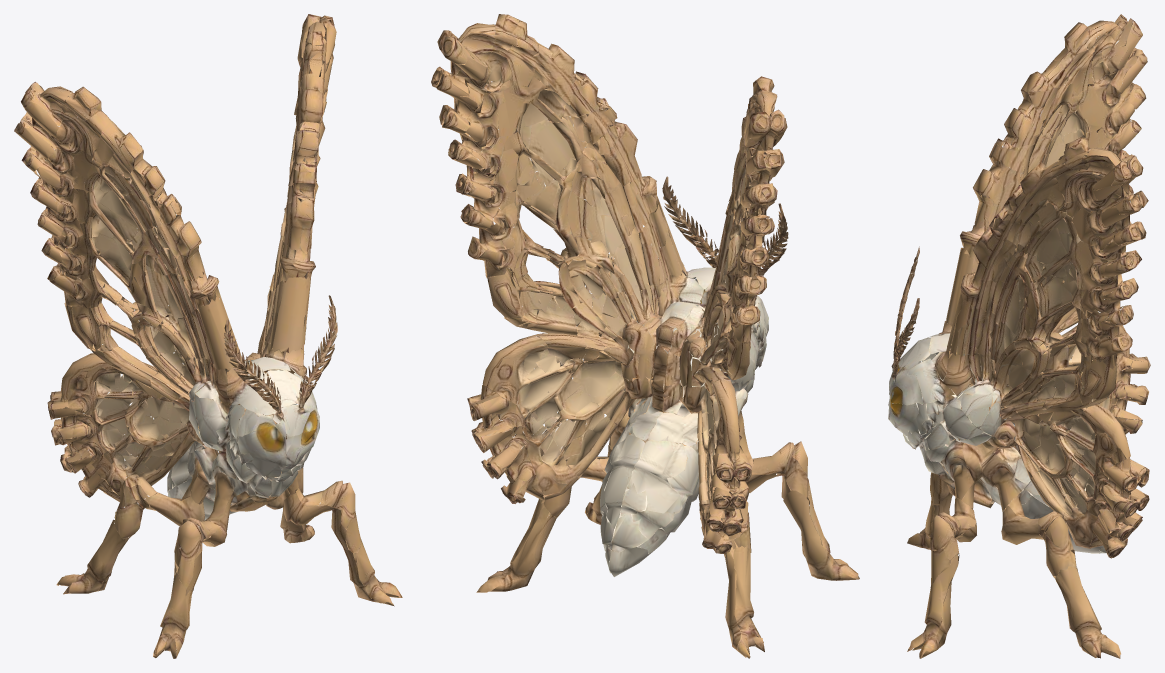
3 renders of one model, left to right at view 1: azimuth 30°, elevation 25°; view 2: azimuth 150°, elevation 25°; view 3: azimuth 270°, elevation 25°, orthographic. The views are drawn at different scales.
Parts seen in each view (by area): view 1: Mesh_0; view 2: Mesh_0; view 3: Mesh_0.
Part boxes in pixels (box(x1,y1,x2,y2)): Mesh_0: box(14, 14, 402, 658); Mesh_0: box(431, 14, 859, 658); Mesh_0: box(888, 14, 1150, 658).
Bounding box in the file's own units: 1.24 × 1.9 × 0.8764.
Materials: 1 (1 with a texture image).
